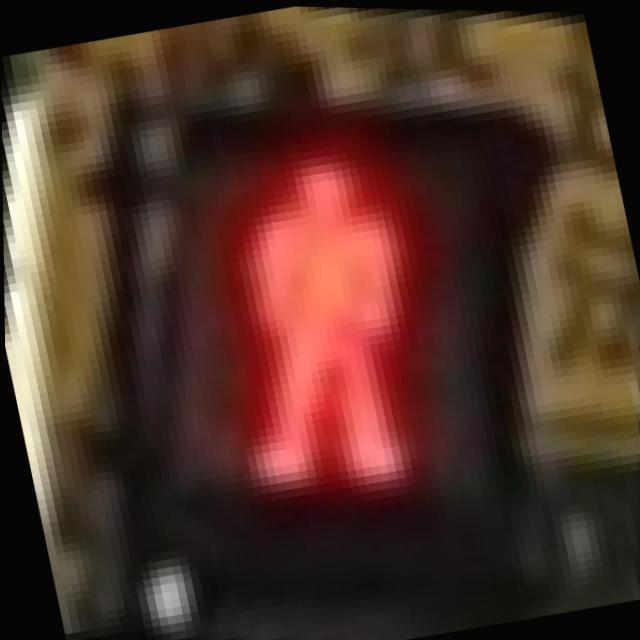red_light: (70, 41, 604, 621)
